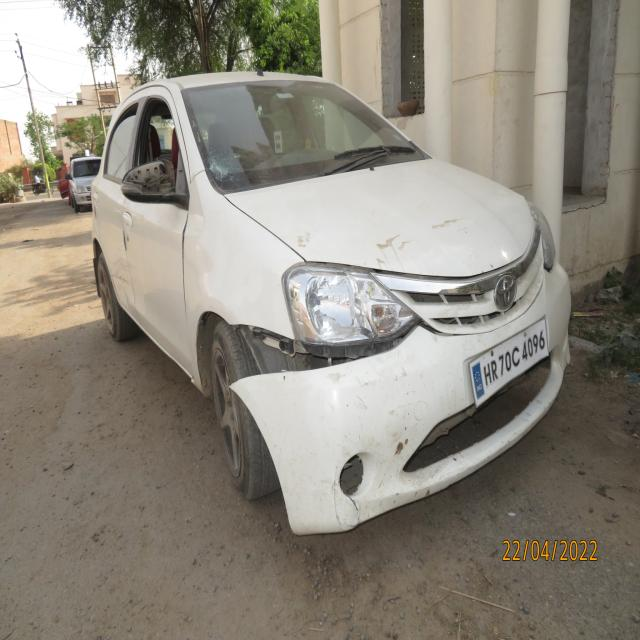damage: (229, 302, 418, 392), (122, 159, 176, 199), (199, 143, 238, 192), (334, 442, 366, 500), (392, 439, 412, 455)
